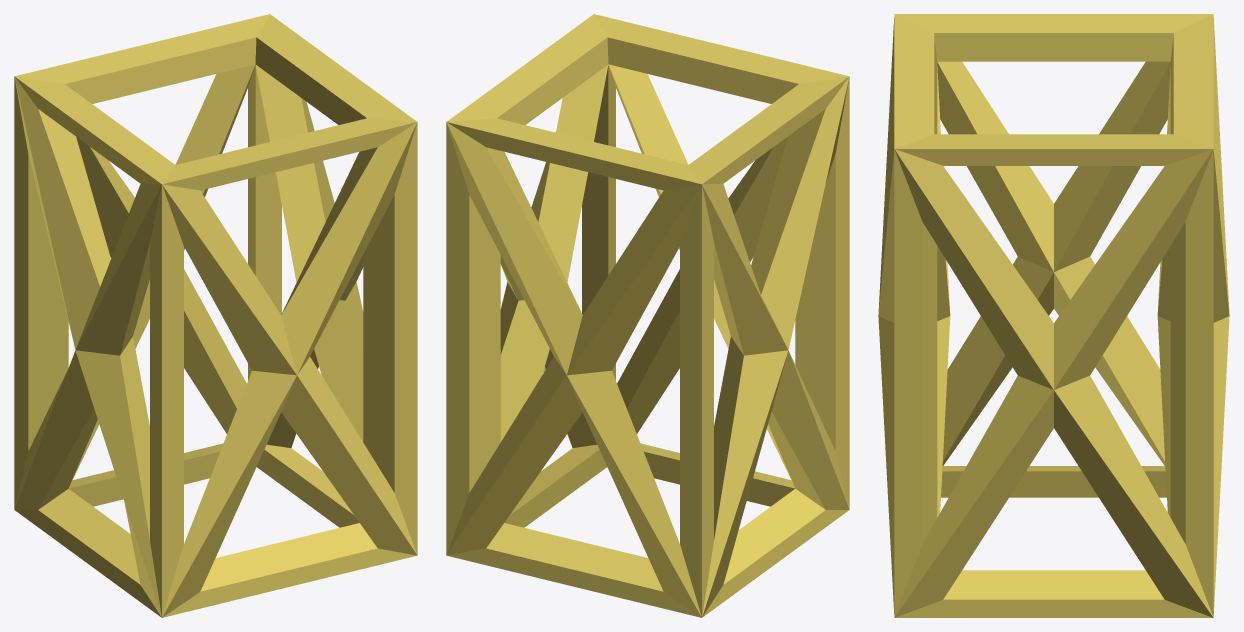
Rendered from Cranepillar.fbx.
3 renders of one model, left to right at view 1: azimuth 30°, elevation 25°; view 2: azimuth 150°, elevation 25°; view 3: azimuth 270°, elevation 25°, orthographic. The views are drawn at different scales.
Parts seen in each view (by area): view 1: Cube.005; view 2: Cube.005; view 3: Cube.005.
Boxes of the visible parts, bbox=[...] form: Cube.005: bbox=[14, 14, 417, 617]; Cube.005: bbox=[446, 14, 849, 617]; Cube.005: bbox=[878, 14, 1229, 617].
Bounding box in the file's own units: 96.6 × 142 × 96.6.
